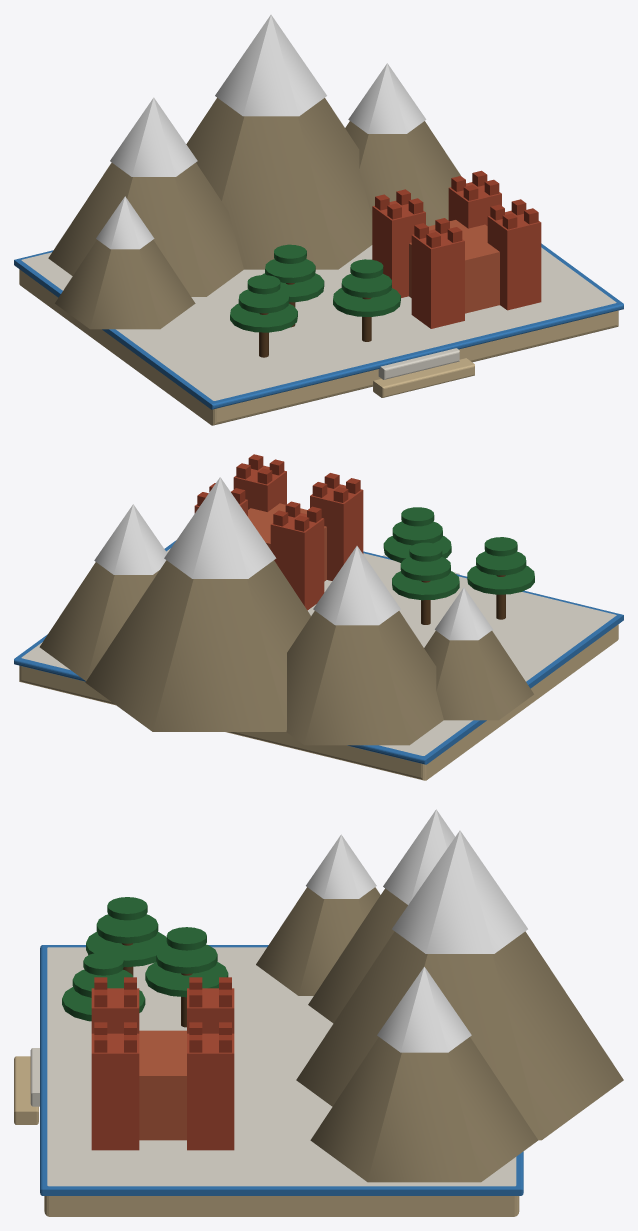
The model's file is atlasMountains.glb.
The picture shows the model from 3 angles, top to bottom: view 1: azimuth 30°, elevation 25°; view 2: azimuth 150°, elevation 25°; view 3: azimuth 270°, elevation 25°; orthographic projection. The views are drawn at different scales.
Parts seen in each view (by area): view 1: part_000; view 2: part_000; view 3: part_000.
Part boxes in pixels (box(x1,y1,x2,y2)): part_000: box(14, 14, 623, 425); part_000: box(14, 454, 623, 780); part_000: box(14, 809, 623, 1216).
Bounding box in the file's own units: 10.12 × 5.25 × 10.27.
